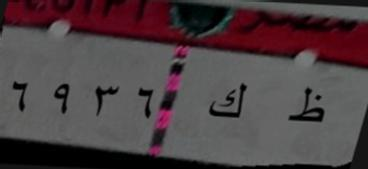3: (93, 78, 120, 120)
6: (8, 76, 32, 117), (134, 85, 158, 122)
9: (52, 78, 75, 119)
Thaa: (287, 80, 327, 130)
kaaf: (203, 74, 249, 128)
